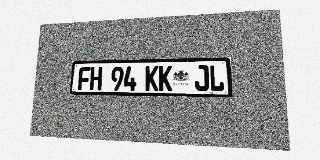4: (123, 66, 137, 91)
9: (111, 66, 124, 90)
F: (78, 67, 91, 90)
H: (90, 67, 102, 90)
J: (195, 65, 209, 91)
K: (145, 66, 158, 91), (159, 66, 172, 91)
L: (209, 65, 224, 91)
